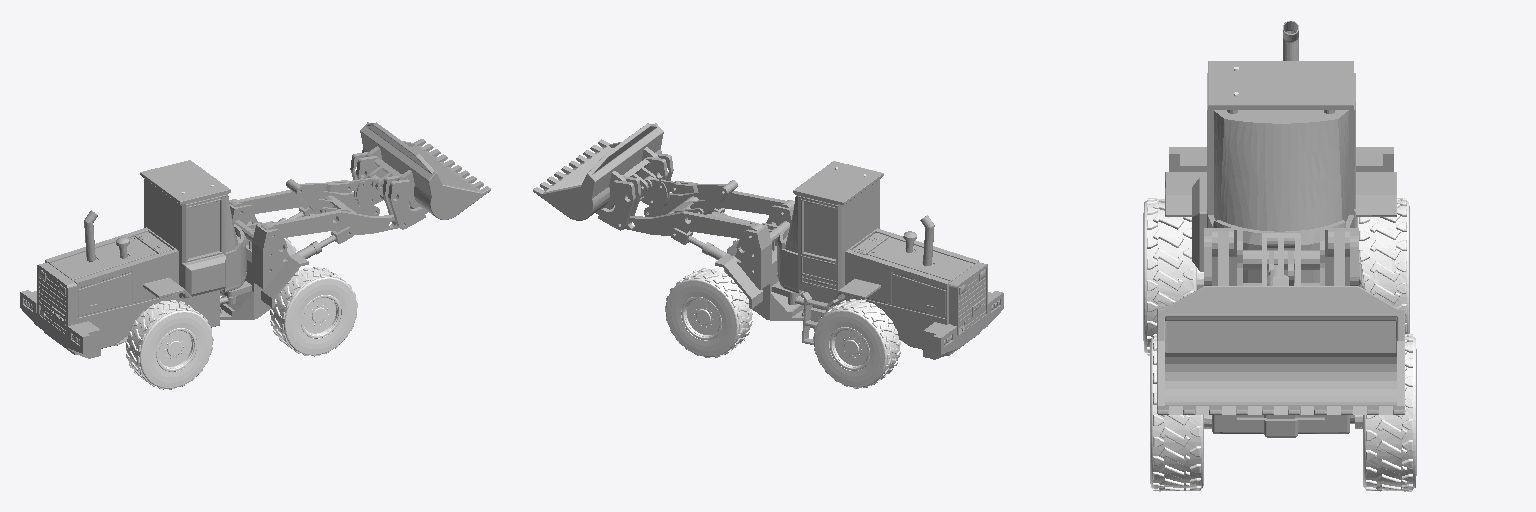
--- What the picture shows (computed from the rendered views, not written in the file) ---
Views: 3 orthographic renders of the robot side by side, from view 1: azimuth 30°, elevation 25°; view 2: azimuth 150°, elevation 25°; view 3: azimuth 270°, elevation 25°.
Robot: loader — 14 links, 13 joints (1 revolute, 4 continuous, 8 fixed); root link base_link; default pose: all joints at 0.
Visible links, largest first — view 1: base_link, front_Link, wheel4_Link, wheel3_Link; view 2: base_link, front_Link, wheel2_Link, wheel1_Link; view 3: front_Link, base_link, wheel4_Link, wheel1_Link, wheel3_Link, wheel2_Link.
Link boxes in pixels (x1,y1,x2,y2): base_link: [20, 160, 246, 358]; front_Link: [220, 122, 490, 319]; wheel4_Link: [126, 300, 213, 389]; wheel3_Link: [270, 267, 357, 356]; base_link: [777, 161, 1003, 359]; front_Link: [533, 123, 803, 320]; wheel2_Link: [813, 299, 900, 388]; wheel1_Link: [665, 268, 752, 357]; front_Link: [1157, 228, 1404, 437]; base_link: [1165, 21, 1396, 289]; wheel4_Link: [1143, 198, 1203, 355]; wheel1_Link: [1355, 334, 1416, 491]; wheel3_Link: [1150, 334, 1211, 491]; wheel2_Link: [1356, 198, 1409, 333].
Size in the robot's own frame: 7.68 by 2.47 by 3.15 metres.
12 mesh visuals loaded from 14 distinct referenced files (12 binary STL); not drawn: 2 (reference not matched to a file when rendering).

robot.urdf — loader:
<?xml version="1.0" encoding="utf-8"?>
<!-- This URDF was automatically created by SolidWorks to URDF Exporter! Originally created by Stephen Brawner ([email redacted]) 
     Commit Version: 1.5.1-0-g916b5db  Build Version: 1.5.7152.31018
     For more information, please see http://wiki.ros.org/sw_urdf_exporter -->
<robot
  name="loader">
  <link
    name="base_link">
    <inertial>
      <origin
        xyz="-1.55665670326581 -0.0138174145921449 -0.0664583682541744"
        rpy="0 0 0" />
      <mass
        value="13223.452625785" />
      <inertia
        ixx="7451.37504617896"
        ixy="301.16148285218"
        ixz="-2559.48543643072"
        iyy="19834.9134470092"
        iyz="68.3815091272382"
        izz="18202.2643661372" />
    </inertial>
    <visual>
      <origin
        xyz="0 0 0"
        rpy="0 0 0" />
      <geometry>
        <mesh
          filename="package://loader/meshes/base_link.STL" />
      </geometry>
      <material
        name="">
        <color
          rgba="0.752941176470588 0.752941176470588 0.752941176470588 1" />
      </material>
    </visual>
    <collision>
      <origin
        xyz="0 0 0"
        rpy="0 0 0" />
      <geometry>
        <mesh
          filename="package://loader/meshes/base_link.STL" />
      </geometry>
    </collision>
  </link>
  <link
    name="wheel2_Link">
    <inertial>
      <origin
        xyz="4.73709738102457E-10 7.9532016988404E-05 4.87341278443409E-11"
        rpy="0 0 0" />
      <mass
        value="574.034970628394" />
      <inertia
        ixx="89.1558780558126"
        ixy="1.12463950833503E-06"
        ixz="-6.93618029951197E-08"
        iyy="156.161835098856"
        iyz="2.13572823136651E-07"
        izz="89.1558857312513" />
    </inertial>
    <visual>
      <origin
        xyz="0 0 0"
        rpy="0 0 0" />
      <geometry>
        <mesh
          filename="package://loader/meshes/wheel2_Link.STL" />
      </geometry>
      <material
        name="">
        <color
          rgba="1 1 1 1" />
      </material>
    </visual>
    <collision>
      <origin
        xyz="0 0 0"
        rpy="0 0 0" />
      <geometry>
        <mesh
          filename="package://loader/meshes/wheel2_Link.STL" />
      </geometry>
    </collision>
  </link>
  <joint
    name="wheel2_joint"
    type="continuous">
    <origin
      xyz="-1.5967 0.94593 -0.82885"
      rpy="0 0 0" />
    <parent
      link="base_link" />
    <child
      link="wheel2_Link" />
    <axis
      xyz="0 1 0" />
  </joint>
  <link
    name="wheel4_Link">
    <inertial>
      <origin
        xyz="-2.24968488282684E-10 -7.9532016988515E-05 -4.19719148325726E-10"
        rpy="0 0 0" />
      <mass
        value="574.034970628394" />
      <inertia
        ixx="89.155884575714"
        ixy="6.24643154024022E-07"
        ixz="-2.74568751980936E-06"
        iyy="156.161835098856"
        iyz="9.59295771734319E-07"
        izz="89.1558792113496" />
    </inertial>
    <visual>
      <origin
        xyz="0 0 0"
        rpy="0 0 0" />
      <geometry>
        <mesh
          filename="package://loader/meshes/wheel4_Link.STL" />
      </geometry>
      <material
        name="">
        <color
          rgba="1 1 1 1" />
      </material>
    </visual>
    <collision>
      <origin
        xyz="0 0 0"
        rpy="0 0 0" />
      <geometry>
        <mesh
          filename="package://loader/meshes/wheel4_Link.STL" />
      </geometry>
    </collision>
  </link>
  <joint
    name="wheel4_joint"
    type="continuous">
    <origin
      xyz="-1.5967 -0.98694 -0.82885"
      rpy="0 0 0" />
    <parent
      link="base_link" />
    <child
      link="wheel4_Link" />
    <axis
      xyz="0 1 0" />
  </joint>
  <link
    name="gps1_Link">
    <inertial>
      <origin
        xyz="1.11022302462516E-16 -5.55111512312578E-17 0.01"
        rpy="0 0 0" />
      <mass
        value="0.045553093477052" />
      <inertia
        ixx="8.63610730502445E-06"
        ixy="-1.88079096131566E-37"
        ixz="2.99232872843359E-38"
        iyy="8.63610730502445E-06"
        iyz="-2.20074750507801E-38"
        izz="1.42353417115788E-05" />
    </inertial>
    <visual>
      <origin
        xyz="0 0 0"
        rpy="0 0 0" />
      <geometry>
        <mesh
          filename="package://loader/meshes/gps1_Link.STL" />
      </geometry>
      <material
        name="">
        <color
          rgba="1 1 1 1" />
      </material>
    </visual>
    <collision>
      <origin
        xyz="0 0 0"
        rpy="0 0 0" />
      <geometry>
        <mesh
          filename="package://loader/meshes/gps1_Link.STL" />
      </geometry>
    </collision>
  </link>
  <joint
    name="gps1_joint"
    type="fixed">
    <origin
      xyz="-0.44782 0.42653 1.5212"
      rpy="0 0 0" />
    <parent
      link="base_link" />
    <child
      link="gps1_Link" />
    <axis
      xyz="0 0 0" />
  </joint>
  <link
    name="gps2_Link">
    <inertial>
      <origin
        xyz="0 0 0.00999999999999979"
        rpy="0 0 0" />
      <mass
        value="0.045553093477052" />
      <inertia
        ixx="8.63610730502445E-06"
        ixy="1.88079096131566E-37"
        ixz="2.99232872843359E-38"
        iyy="8.63610730502445E-06"
        iyz="-2.20074750507801E-38"
        izz="1.42353417115788E-05" />
    </inertial>
    <visual>
      <origin
        xyz="0 0 0"
        rpy="0 0 0" />
      <geometry>
        <mesh
          filename="package://loader/meshes/gps2_Link.STL" />
      </geometry>
      <material
        name="">
        <color
          rgba="1 1 1 1" />
      </material>
    </visual>
    <collision>
      <origin
        xyz="0 0 0"
        rpy="0 0 0" />
      <geometry>
        <mesh
          filename="package://loader/meshes/gps2_Link.STL" />
      </geometry>
    </collision>
  </link>
  <joint
    name="gps2_joint"
    type="fixed">
    <origin
      xyz="-0.44782 -0.38529 1.5212"
      rpy="0 0 0" />
    <parent
      link="base_link" />
    <child
      link="gps2_Link" />
    <axis
      xyz="0 0 0" />
  </joint>
  <link
    name="gps3_Link">
    <inertial>
      <origin
        xyz="0 -5.55111512312578E-17 0.01"
        rpy="0 0 0" />
      <mass
        value="0.045553093477052" />
      <inertia
        ixx="8.63610730502445E-06"
        ixy="0"
        ixz="2.99232872843359E-38"
        iyy="8.63610730502445E-06"
        iyz="-2.20074750507801E-38"
        izz="1.42353417115788E-05" />
    </inertial>
    <visual>
      <origin
        xyz="0 0 0"
        rpy="0 0 0" />
      <geometry>
        <mesh
          filename="package://loader/meshes/gps3_Link.STL" />
      </geometry>
      <material
        name="">
        <color
          rgba="1 1 1 1" />
      </material>
    </visual>
    <collision>
      <origin
        xyz="0 0 0"
        rpy="0 0 0" />
      <geometry>
        <mesh
          filename="package://loader/meshes/gps3_Link.STL" />
      </geometry>
    </collision>
  </link>
  <joint
    name="gps3_joint"
    type="fixed">
    <origin
      xyz="-0.98943 0.42653 1.5212"
      rpy="0 0 0" />
    <parent
      link="base_link" />
    <child
      link="gps3_Link" />
    <axis
      xyz="0 0 0" />
  </joint>
  <link
    name="gps4_Link">
    <inertial>
      <origin
        xyz="0 0 0.01"
        rpy="0 0 0" />
      <mass
        value="0.045553093477052" />
      <inertia
        ixx="8.63610730502445E-06"
        ixy="3.76158192263132E-37"
        ixz="2.99232872843359E-38"
        iyy="8.63610730502445E-06"
        iyz="-1.76322918752411E-37"
        izz="1.42353417115788E-05" />
    </inertial>
    <visual>
      <origin
        xyz="0 0 0"
        rpy="0 0 0" />
      <geometry>
        <mesh
          filename="package://loader/meshes/gps4_Link.STL" />
      </geometry>
      <material
        name="">
        <color
          rgba="1 1 1 1" />
      </material>
    </visual>
    <collision>
      <origin
        xyz="0 0 0"
        rpy="0 0 0" />
      <geometry>
        <mesh
          filename="package://loader/meshes/gps4_Link.STL" />
      </geometry>
    </collision>
  </link>
  <joint
    name="gps4_joint"
    type="fixed">
    <origin
      xyz="-0.98943 -0.38529 1.5212"
      rpy="0 0 0" />
    <parent
      link="base_link" />
    <child
      link="gps4_Link" />
    <axis
      xyz="0 0 0" />
  </joint>
  <link
    name="front_Link">
    <inertial>
      <origin
        xyz="2.00422728096564 -0.00113540071892237 0.492234503474334"
        rpy="0 0 0" />
      <mass
        value="8235.2266576128" />
      <inertia
        ixx="4438.13640615043"
        ixy="-9.95949001599743"
        ixz="-2382.3855360236"
        iyy="12032.8561967279"
        iyz="9.54928865033286"
        izz="12775.1395490104" />
    </inertial>
    <visual>
      <origin
        xyz="0 0 0"
        rpy="0 0 0" />
      <geometry>
        <mesh
          filename="package://loader/meshes/front_Link.STL" />
      </geometry>
      <material
        name="">
        <color
          rgba="0.752941176470588 0.752941176470588 0.752941176470588 1" />
      </material>
    </visual>
    <collision>
      <origin
        xyz="0 0 0"
        rpy="0 0 0" />
      <geometry>
        <mesh
          filename="package://loader/meshes/front_Link.STL" />
      </geometry>
    </collision>
  </link>
  <joint
    name="front_joint"
    type="revolute">
    <origin
      xyz="0.55527 0.020622 -0.14482"
      rpy="0 0 0" />
    <parent
      link="base_link" />
    <child
      link="front_Link" />
    <axis
      xyz="0 0 1" />
    <limit
      lower="-0.79"
      upper="0.79"
      effort="100000000000000000000"
      velocity="10000000000000000" />
  </joint>
  <link
    name="wheel1_Link">
    <inertial>
      <origin
        xyz="4.73907579845445E-10 7.9532016988848E-05 4.67712535368037E-11"
        rpy="0 0 0" />
      <mass
        value="574.034970628393" />
      <inertia
        ixx="89.1558780553692"
        ixy="1.12551506313018E-06"
        ixz="-3.75481658349861E-08"
        iyy="156.161835098855"
        iyz="2.08909790394095E-07"
        izz="89.1558857316946" />
    </inertial>
    <visual>
      <origin
        xyz="0 0 0"
        rpy="0 0 0" />
      <geometry>
        <mesh
          filename="package://loader/meshes/wheel1_Link.STL" />
      </geometry>
      <material
        name="">
        <color
          rgba="1 1 1 1" />
      </material>
    </visual>
    <collision>
      <origin
        xyz="0 0 0"
        rpy="0 0 0" />
      <geometry>
        <mesh
          filename="package://loader/meshes/wheel1_Link.STL" />
      </geometry>
    </collision>
  </link>
  <joint
    name="wheel1_joint"
    type="continuous">
    <origin
      xyz="0.61155 0.98568 -0.75303"
      rpy="0 0 0" />
    <parent
      link="front_Link" />
    <child
      link="wheel1_Link" />
    <axis
      xyz="0 1 0" />
  </joint>
  <link
    name="wheel3_Link">
    <inertial>
      <origin
        xyz="2.92078805586016E-10 -7.9532016988515E-05 -3.76120246059486E-10"
        rpy="0 0 0" />
      <mass
        value="574.034970628395" />
      <inertia
        ixx="89.1558821361912"
        ixy="-6.22678023202415E-07"
        ixz="3.83066804534163E-06"
        iyy="156.161835098856"
        iyz="9.60572425990918E-07"
        izz="89.1558816508725" />
    </inertial>
    <visual>
      <origin
        xyz="0 0 0"
        rpy="0 0 0" />
      <geometry>
        <mesh
          filename="package://loader/meshes/wheel3_Link.STL" />
      </geometry>
      <material
        name="">
        <color
          rgba="1 1 1 1" />
      </material>
    </visual>
    <collision>
      <origin
        xyz="0 0 0"
        rpy="0 0 0" />
      <geometry>
        <mesh
          filename="package://loader/meshes/wheel3_Link.STL" />
      </geometry>
    </collision>
  </link>
  <joint
    name="wheel3_joint"
    type="continuous">
    <origin
      xyz="0.61155 -0.94718 -0.75303"
      rpy="0 0 0" />
    <parent
      link="front_Link" />
    <child
      link="wheel3_Link" />
    <axis
      xyz="0 1 0" />
  </joint>
  <link
    name="imu1_Link">
    <inertial>
      <origin
        xyz="0 0 0.00999999999999979"
        rpy="0 0 0" />
      <mass
        value="0.036638824322491" />
      <inertia
        ixx="6.94611044447225E-06"
        ixy="-1.41059322098675E-37"
        ixz="4.37492474111058E-22"
        iyy="6.94611044447225E-06"
        iyz="-1.1718548413689E-22"
        izz="1.14496326007784E-05" />
    </inertial>
    <visual>
      <origin
        xyz="0 0 0"
        rpy="0 0 0" />
      <geometry>
        <mesh
          filename="package://loader/meshes/imu1_Link.STL" />
      </geometry>
      <material
        name="">
        <color
          rgba="1 1 1 1" />
      </material>
    </visual>
    <collision>
      <origin
        xyz="0 0 0"
        rpy="0 0 0" />
      <geometry>
        <mesh
          filename="package://loader/meshes/imu1_Link.STL" />
      </geometry>
    </collision>
  </link>
  <joint
    name="imu1_joint"
    type="fixed">
    <origin
      xyz="0.61155 0.38018 -0.92303"
      rpy="0 0 0" />
    <parent
      link="front_Link" />
    <child
      link="imu1_Link" />
    <axis
      xyz="0 0 0" />
  </joint>
  <link
    name="imu2_Link">
    <inertial>
      <origin
        xyz="0 -9.27036225562006E-15 0.01"
        rpy="0 0 0" />
      <mass
        value="0.036638824322491" />
      <inertia
        ixx="6.94611044447225E-06"
        ixy="-4.05874689451919E-34"
        ixz="4.37492474111058E-22"
        iyy="6.94611044447225E-06"
        iyz="-4.17004545301125E-18"
        izz="1.14496326007784E-05" />
    </inertial>
    <visual>
      <origin
        xyz="0 0 0"
        rpy="0 0 0" />
      <geometry>
        <mesh
          filename="package://loader/meshes/imu2_Link.STL" />
      </geometry>
      <material
        name="">
        <color
          rgba="1 1 1 1" />
      </material>
    </visual>
    <collision>
      <origin
        xyz="0 0 0"
        rpy="0 0 0" />
      <geometry>
        <mesh
          filename="package://loader/meshes/imu2_Link.STL" />
      </geometry>
    </collision>
  </link>
  <joint
    name="imu2_joint"
    type="fixed">
    <origin
      xyz="0.61155 -0.38018 -0.92303"
      rpy="0 0 0" />
    <parent
      link="front_Link" />
    <child
      link="imu2_Link" />
    <axis
      xyz="0 0 0" />
  </joint>
  <link
    name="imu3_Link">
    <inertial>
      <origin
        xyz="0 -2.77555756156289E-17 0.00999999999999979"
        rpy="0 0 0" />
      <mass
        value="0.036638824322491" />
      <inertia
        ixx="6.94611044447225E-06"
        ixy="-6.34402243733318E-37"
        ixz="-5.71418741696076E-21"
        iyy="6.94611044447225E-06"
        iyz="4.99991398984066E-22"
        izz="1.14496326007784E-05" />
    </inertial>
    <visual>
      <origin
        xyz="0 0 0"
        rpy="0 0 0" />
      <geometry>
        <mesh
          filename="package://loader/meshes/imu3_Link.STL" />
      </geometry>
      <material
        name="">
        <color
          rgba="1 1 1 1" />
      </material>
    </visual>
    <collision>
      <origin
        xyz="0 0 0"
        rpy="0 0 0" />
      <geometry>
        <mesh
          filename="package://loader/meshes/imu3_Link.STL" />
      </geometry>
    </collision>
  </link>
  <joint
    name="imu3_joint"
    type="fixed">
    <origin
      xyz="-1.5967 -0.28875 -0.98635"
      rpy="0 0 0" />
    <parent
      link="base_link" />
    <child
      link="imu3_Link" />
    <axis
      xyz="0 0 0" />
  </joint>
  <link
    name="imu4_Link">
    <inertial>
      <origin
        xyz="0 0 0.00999999999999979"
        rpy="0 0 0" />
      <mass
        value="0.036638824322491" />
      <inertia
        ixx="6.94611044447225E-06"
        ixy="-6.34402243733318E-37"
        ixz="-5.71418741696075E-21"
        iyy="6.94611044447225E-06"
        iyz="4.99991398984066E-22"
        izz="1.14496326007784E-05" />
    </inertial>
    <visual>
      <origin
        xyz="0 0 0"
        rpy="0 0 0" />
      <geometry>
        <mesh
          filename="package://loader/meshes/imu4_Link.STL" />
      </geometry>
      <material
        name="">
        <color
          rgba="1 1 1 1" />
      </material>
    </visual>
    <collision>
      <origin
        xyz="0 0 0"
        rpy="0 0 0" />
      <geometry>
        <mesh
          filename="package://loader/meshes/imu4_Link.STL" />
      </geometry>
    </collision>
  </link>
  <joint
    name="imu4_joint"
    type="fixed">
    <origin
      xyz="-1.5967 0.33 -0.98635"
      rpy="0 0 0" />
    <parent
      link="base_link" />
    <child
      link="imu4_Link" />
    <axis
      xyz="0 0 0" />
  </joint>

<!--friction-->
<gazebo reference="'wheel1_link'">
            <material>Gazebo/DarkGrey</material>
            <mu1>0.7</mu1>
            <mu2>10000000</mu2>
</gazebo>
<gazebo reference="'wheel2_link'">
            <material>Gazebo/DarkGrey</material>
            <mu1>0.7</mu1>
            <mu2>10000000</mu2>
</gazebo>
<gazebo reference="'wheel3_link'">
            <material>Gazebo/DarkGrey</material>
            <mu1>0.7</mu1>
            <mu2>10000000</mu2>
</gazebo>
<gazebo reference="'wheel4_link'">
            <material>Gazebo/DarkGrey</material>
            <mu1>0.7</mu1>
            <mu2>10000000</mu2>
</gazebo>

<!--imu-->
<gazebo reference="imu1_Link">
    <gravity>true</gravity>
    <sensor name="imu_sensor" type="imu">
      <always_on>true</always_on>
      <update_rate>100</update_rate>
      <visualize>true</visualize>
      <topic>__default_topic__</topic>
      <plugin filename="libgazebo_ros_imu_sensor.so" name="imu_plugin">
        <topicName>imu_data1</topicName>
        <bodyName>imu1_Link</bodyName>
        <updateRateHZ>100</updateRateHZ>
        <gaussianNoise>0.05</gaussianNoise>  <!-- IMU NIOSE(SOME REASONABLE)-->
        <xyzOffset>0.05 0.05 0.05</xyzOffset>
        <rpyOffset>0.01 0.01 0.01</rpyOffset>
        <frameName>imu1_Link</frameName>
        <initialOrientationAsReference>false</initialOrientationAsReference>
       </plugin>
      <pose>0 0 0 0 0 0</pose>
    </sensor>
  </gazebo>


<gazebo reference="imu2_Link">
    <gravity>true</gravity>
    <sensor name="imu_sensor" type="imu">
      <always_on>true</always_on>
      <update_rate>100</update_rate>
      <visualize>true</visualize>
      <topic>__default_topic__</topic>
      <plugin filename="libgazebo_ros_imu_sensor.so" name="imu_plugin">
        <topicName>imu_data2</topicName>
        <bodyName>imu2_Link</bodyName>
        <updateRateHZ>100</updateRateHZ>
        <gaussianNoise>0.05</gaussianNoise>  <!-- IMU NIOSE(SOME REASONABLE)-->
        <xyzOffset>0.05 0.05 0.05</xyzOffset>
        <rpyOffset>0.01 0.01 0.01</rpyOffset>
        <frameName>imu2_Link</frameName>
        <initialOrientationAsReference>false</initialOrientationAsReference>
       </plugin>
      <pose>0 0 0 0 0 0</pose>
    </sensor>
  </gazebo>

<gazebo reference="imu3_Link">
    <gravity>true</gravity>
    <sensor name="imu_sensor" type="imu">
      <always_on>true</always_on>
      <update_rate>100</update_rate>
      <visualize>true</visualize>
      <topic>__default_topic__</topic>
      <plugin filename="libgazebo_ros_imu_sensor.so" name="imu_plugin">
        <topicName>imu_data3</topicName>
        <bodyName>imu3_Link</bodyName>
        <updateRateHZ>100</updateRateHZ>
        <gaussianNoise>0.05</gaussianNoise>  <!-- IMU NIOSE(SOME REASONABLE)-->
        <xyzOffset>0.05 0.05 0.05</xyzOffset>
        <rpyOffset>0.01 0.01 0.01</rpyOffset>
        <frameName>imu3_Link</frameName>
        <initialOrientationAsReference>false</initialOrientationAsReference>
       </plugin>
      <pose>0 0 0 0 0 0</pose>
    </sensor>
  </gazebo>

<gazebo reference="imu4_Link">
    <gravity>true</gravity>
    <sensor name="imu_sensor" type="imu">
      <always_on>true</always_on>
      <update_rate>100</update_rate>
      <visualize>true</visualize>
      <topic>__default_topic__</topic>
      <plugin filename="libgazebo_ros_imu_sensor.so" name="imu_plugin">
        <topicName>imu_data4</topicName>
        <bodyName>imu4_Link</bodyName>
        <updateRateHZ>100</updateRateHZ>
        <gaussianNoise>0.05</gaussianNoise>  <!-- IMU NIOSE(SOME REASONABLE)-->
        <xyzOffset>0.05 0.05 0.05</xyzOffset>
        <rpyOffset>0.05 0.05 0.05</rpyOffset>
        <frameName>imu4_Link</frameName>
        <initialOrientationAsReference>false</initialOrientationAsReference>
       </plugin>
      <pose>0 0 0 0 0 0</pose>
    </sensor>
  </gazebo>


<!--gps-->

<gazebo>
    <plugin name="gps_controller" filename="libhector_gazebo_ros_gps.so">
      <updateRate>5</updateRate>
      <robotNamespace>/</robotNamespace>
      <bodyName>gps1_Link</bodyName>
      <frameId>gps1_Link</frameId>
      <topicName>/gps/fix1</topicName>
      <velocityTopicName>/navsat/vel1</velocityTopicName>
      <drift>1.5 1.5 1.5</drift>
      <gaussiannoise>0.01 0.01 0.01</gaussiannoise>
      <velocitydrift>0 0 0</velocitydrift>
      <velocitygaussiannoise>0.05 0.05 0.05</velocitygaussiannoise>
    </plugin>
  </gazebo>

<gazebo>
    <plugin name="gps_controller" filename="libhector_gazebo_ros_gps.so">
      <updateRate>5</updateRate>
      <robotNamespace>/</robotNamespace>
      <bodyName>gps2_Link</bodyName>
      <frameId>gps2_Link</frameId>
      <topicName>/gps/fix2</topicName>
      <velocityTopicName>/navsat/vel2</velocityTopicName>
      <drift>1.5 1.5 1.5</drift>
      <gaussiannoise>0.01 0.01 0.01</gaussiannoise>
      <velocitydrift>0 0 0</velocitydrift>
      <velocitygaussiannoise>0.05 0.05 0.05</velocitygaussiannoise>
    </plugin>
  </gazebo>

<gazebo>
    <plugin name="gps_controller" filename="libhector_gazebo_ros_gps.so">
      <updateRate>5</updateRate>
      <robotNamespace>/</robotNamespace>
      <bodyName>gps3_Link</bodyName>
      <frameId>gps3_Link</frameId>
      <topicName>/gps/fix3</topicName>
      <velocityTopicName>/navsat/vel3</velocityTopicName>
      <drift>1.5 1.5 1.5</drift>
      <gaussiannoise>0.01 0.01 0.01</gaussiannoise>
      <velocitydrift>0 0 0</velocitydrift>
      <velocitygaussiannoise>0.05 0.05 0.05</velocitygaussiannoise>
    </plugin>
  </gazebo>

<gazebo>
    <plugin name="gps_controller" filename="libhector_gazebo_ros_gps.so">
      <updateRate>5</updateRate>
      <robotNamespace>/</robotNamespace>
      <bodyName>gps4_Link</bodyName>
      <frameId>gps4_Link</frameId>
      <topicName>/gps/fix4</topicName>
      <velocityTopicName>/navsat/vel4</velocityTopicName>
      <drift>0.1 0.1 0.1</drift>
      <gaussiannoise>0.01 0.01 0.01</gaussiannoise>
      <velocitydrift>0 0 0</velocitydrift>
      <velocitygaussiannoise>0.05 0.05 0.05</velocitygaussiannoise>
    </plugin>
  </gazebo>


<!--ground truth-->
<gazebo>
  <plugin name="p3d_base_controller" filename="libgazebo_ros_p3d.so">
    <alwaysOn>true</alwaysOn>
    <updateRate>100.0</updateRate>
    <bodyName>base_link</bodyName>
    <topicName>ground_truth/state</topicName>
    <gaussianNoise>0</gaussianNoise>
    <frameName>world</frameName>
    <xyzOffsets>0 0 0</xyzOffsets>
    <rpyOffsets>0 0 0</rpyOffsets>
  </plugin>
</gazebo>



<gazebo>
  <plugin name="skid_steer_drive_controller" filename="libgazebo_ros_skid_steer_drive.so">
    <updateRate>100.0</updateRate>
    <robotNamespace>/</robotNamespace>
    <leftFrontJoint>wheel1_joint</leftFrontJoint>
    <rightFrontJoint>wheel3_joint</rightFrontJoint>
    <leftRearJoint>wheel2_joint</leftRearJoint>
    <rightRearJoint>wheel4_joint</rightRearJoint>
    <wheelSeparation>1.93287</wheelSeparation>
    <wheelDiameter>1.425</wheelDiameter>
    <robotBaseFrame>base_link</robotBaseFrame>
    <covariance_x>0.000100</covariance_x>
    <covariance_y>0.000100</covariance_y>
    <covariance_yaw>0.010000</covariance_yaw>
    <torque>1</torque>
    <commandTopic>cmd_vel</commandTopic>
    <odometryTopic>odom</odometryTopic>
    <odometryFrame>odom</odometryFrame>
    <broadcastTF>1</broadcastTF>
  </plugin>
</gazebo>




<transmission name="tran5">
    <type>transmission_interface/SimpleTransmission</type>
    <joint name="front_joint">
      <hardwareInterface>EffortJointInterface</hardwareInterface>
    </joint>
    <actuator name="motor5">
      <hardwareInterface>EffortJointInterface</hardwareInterface>
      <mechanicalReduction>1</mechanicalReduction>
    </actuator>
</transmission>

<transmission name="tran1">
    <type>transmission_interface/SimpleTransmission</type>
    <joint name="wheel1_joint">
      <hardwareInterface>VelocityJointInterface</hardwareInterface>
    </joint>
    <actuator name="motor1">
      <hardwareInterface>VelocityJointInterface</hardwareInterface>
      <mechanicalReduction>1</mechanicalReduction>
    </actuator>
  </transmission>

  <transmission name="tran2">
    <type>transmission_interface/SimpleTransmission</type>
    <joint name="wheel2_joint">
      <hardwareInterface>VelocityJointInterface</hardwareInterface>
    </joint>
    <actuator name="motor2">
      <hardwareInterface>VelocityJointInterface</hardwareInterface>
      <mechanicalReduction>1</mechanicalReduction>
    </actuator>
  </transmission>

<transmission name="tran3">
    <type>transmission_interface/SimpleTransmission</type>
    <joint name="wheel3_joint">
      <hardwareInterface>VelocityJointInterface</hardwareInterface>
    </joint>
    <actuator name="motor3">
      <hardwareInterface>VelocityJointInterface</hardwareInterface>
      <mechanicalReduction>1</mechanicalReduction>
    </actuator>
  </transmission>

  <transmission name="tran4">
    <type>transmission_interface/SimpleTransmission</type>
    <joint name="wheel4_joint">
      <hardwareInterface>VelocityJointInterface</hardwareInterface>
    </joint>
    <actuator name="motor4">
      <hardwareInterface>VelocityJointInterface</hardwareInterface>
      <mechanicalReduction>1</mechanicalReduction>
    </actuator>
  </transmission>



<gazebo>
  <plugin name="gazebo_ros_control" filename="libgazebo_ros_control.so">
    <robotNamespace>/loader</robotNamespace>
  </plugin>
</gazebo>
</robot>
